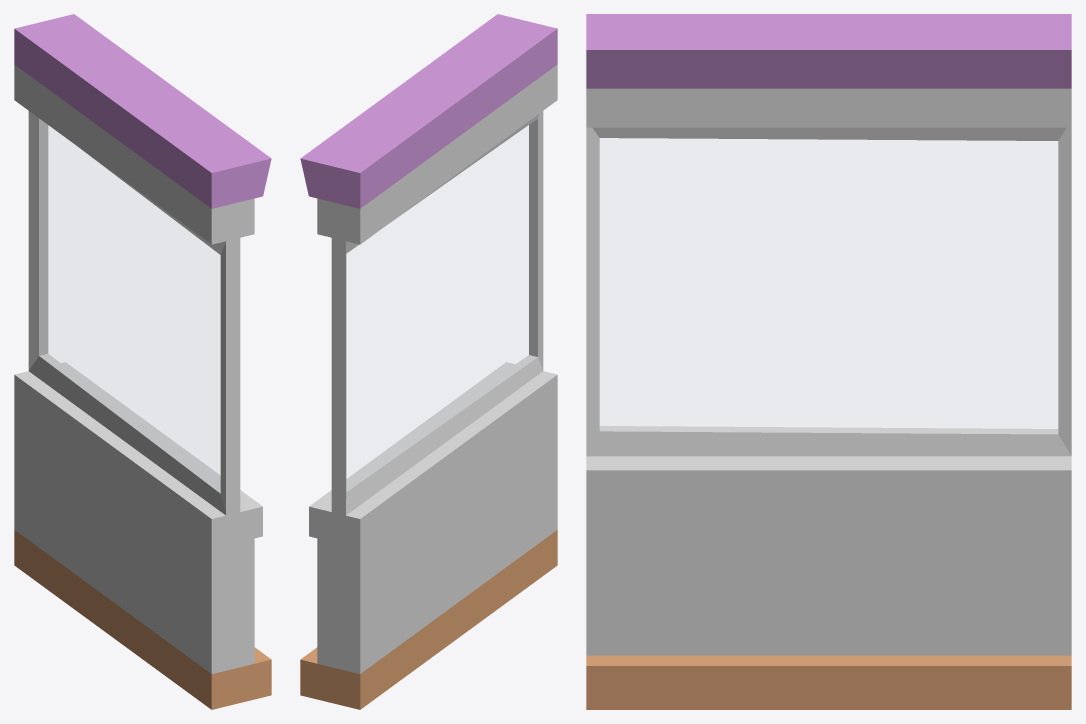
The model's file is Window_wall.glb.
3 renders of one model, left to right at view 1: azimuth 30°, elevation 25°; view 2: azimuth 150°, elevation 25°; view 3: azimuth 270°, elevation 25°, orthographic. The views are drawn at different scales.
Visible parts, largest first — view 1: Window_wall; view 2: Window_wall; view 3: Window_wall.
Boxes of the visible parts, <box> form: Window_wall: <box>14,14,271,709</box>; Window_wall: <box>300,14,557,709</box>; Window_wall: <box>586,14,1071,709</box>.
Size of the model in its own units: 0.35 by 3 by 2.
